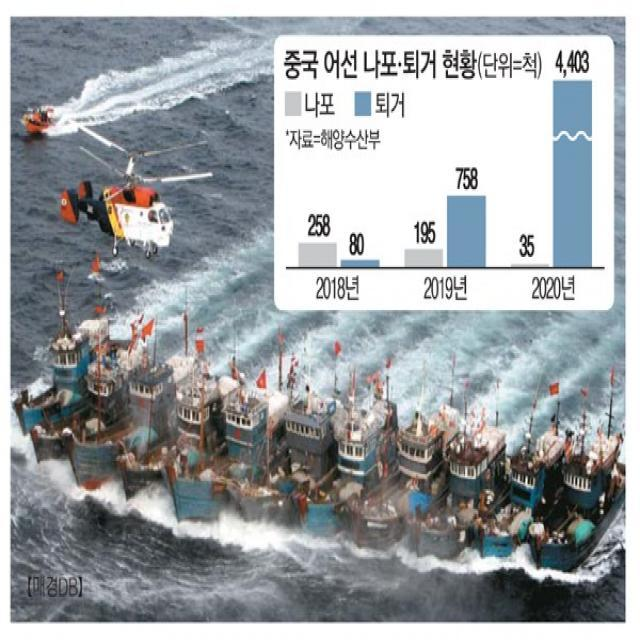Ship: (115, 369, 224, 567), (236, 388, 342, 562), (530, 404, 631, 585), (166, 388, 270, 557), (66, 343, 145, 563), (348, 404, 451, 565), (306, 396, 402, 564), (476, 409, 569, 575), (411, 419, 509, 570), (16, 309, 114, 432)
